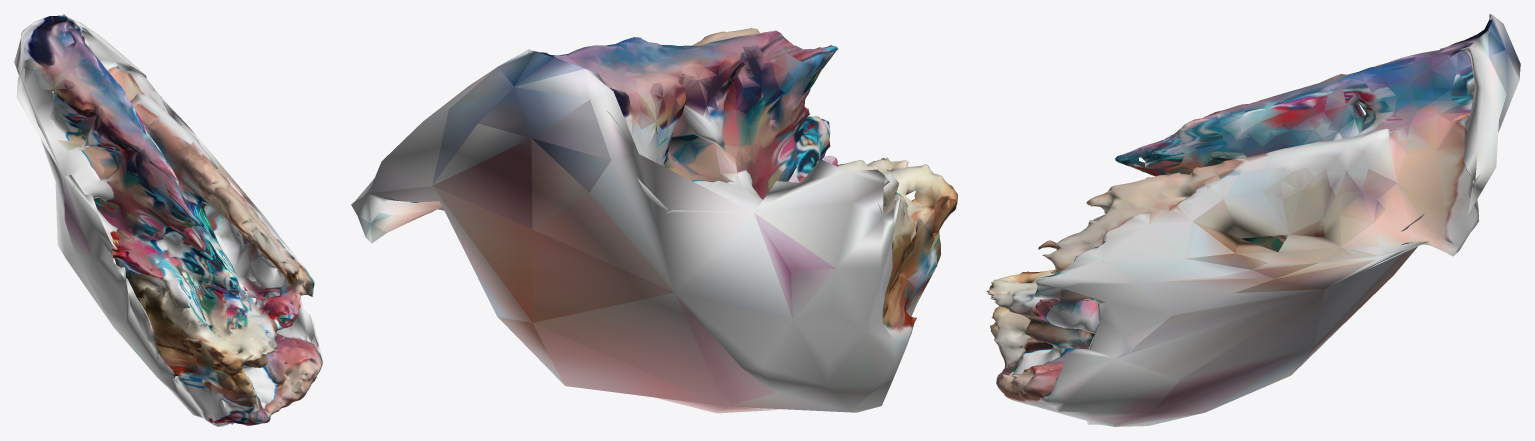
The model's file is dichotomylostparadise.glb.
The picture shows the model from 3 angles, left to right: view 1: azimuth 30°, elevation 25°; view 2: azimuth 150°, elevation 25°; view 3: azimuth 270°, elevation 25°; orthographic projection. The views are drawn at different scales.
Visible parts, largest first — view 1: Mesh_0; view 2: Mesh_0; view 3: Mesh_0.
Boxes of the visible parts, bbox=[...] form: Mesh_0: bbox=[14, 14, 322, 426]; Mesh_0: bbox=[351, 27, 957, 413]; Mesh_0: bbox=[986, 14, 1520, 426].
Bounding box in the file's own units: 1.06 × 1.82 × 2.3.
Materials: 1 (1 with a texture image).
